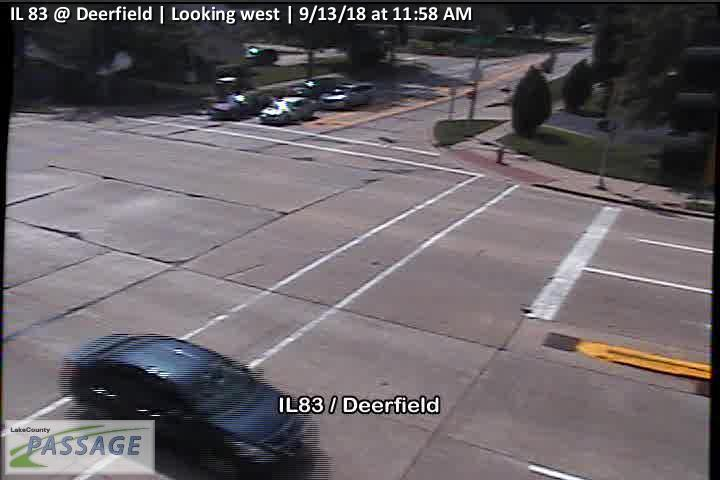SUV: (320, 82, 376, 111)
Sedan: (69, 335, 309, 480), (256, 96, 314, 126)
